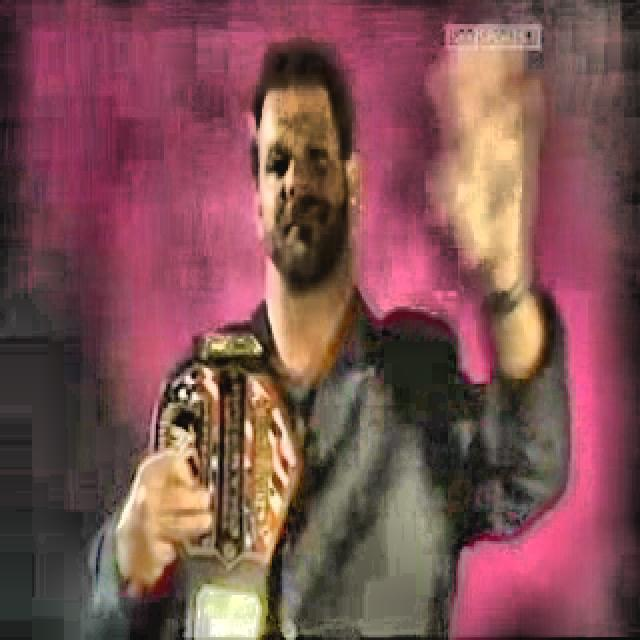L: (84, 41, 569, 636)
